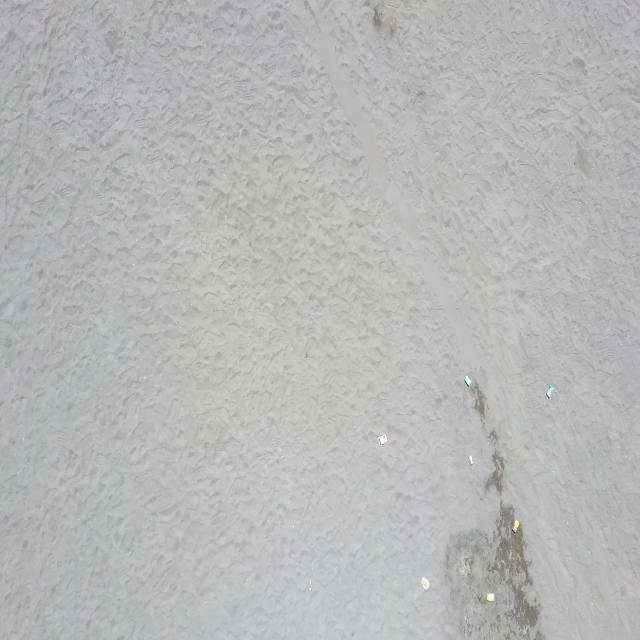retort-pouch: (377, 433, 388, 449), (545, 382, 555, 399), (420, 576, 431, 590), (463, 373, 472, 388), (467, 452, 475, 468), (511, 519, 520, 533), (487, 593, 496, 603)
